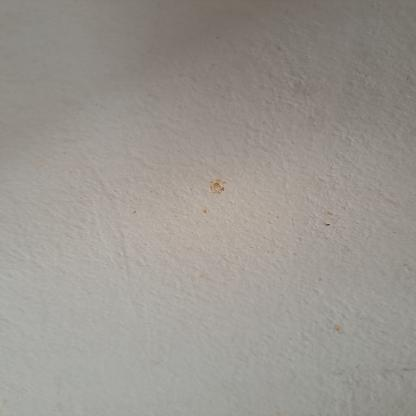spot: (201, 175, 232, 196), (198, 205, 224, 220), (322, 209, 338, 218)
